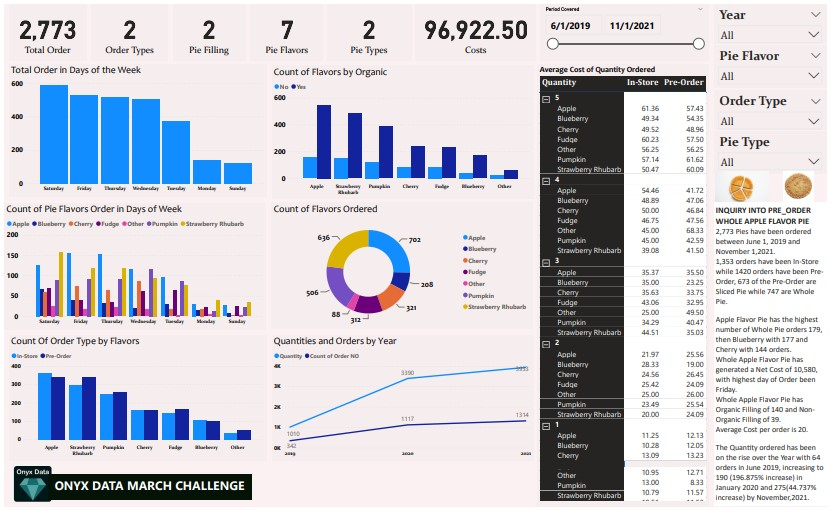

Layout of this report page (visuals, bound fields, positions):
{"tool":"powerbi","page":{"name":"Page 1","canvas":[1800,1100],"ordinal":0},"visuals":[{"type":"card","fields":{"Values":["Count(Data.Order NO)"]},"box":[10.8,0,170.4,122.9],"z":0},{"type":"card","fields":{"Values":["Count(Data.Pre-Order/In-Store Purchase)"]},"box":[191.1,0,167.2,122.8],"z":1000},{"type":"card","fields":{"Values":["Count(Data.Organic?)"]},"box":[368.5,0,158.7,122.8],"z":2000},{"type":"card","fields":{"Values":["Count(Data.Pie Flavor)"]},"box":[539.1,0,158.7,122.8],"z":3000},{"type":"card","fields":{"Values":["Count(Data.Slice Or Whole Pie)"]},"box":[706.4,0,184.3,122.8],"z":4000},{"type":"clusteredColumnChart","title":"Total Order in Days of the Week","fields":{"Category":["Data.Day of Week"],"Y":["Count(Data.Order NO)"]},"box":[10.8,131.5,562.8,291.1],"z":5000},{"type":"clusteredColumnChart","title":"Count of Pie Flavors Order in Days of Week","fields":{"Category":["Data.Day of Week"],"Series":["Data.Pie Flavor"],"Y":["Count(Data.Order NO)"]},"box":[0,434.3,573.2,277.8],"z":6000},{"type":"clusteredColumnChart","title":"Count of Flavors by Organic","fields":{"Category":["Data.Pie Flavor"],"Y":["Count(Data.Order NO)"],"Series":["Data.Organic?"]},"box":[585.2,134.8,573.3,291.8],"z":7000},{"type":"clusteredColumnChart","title":"Count Of Order Type by Flavors","fields":{"Category":["Data.Pie Flavor"],"Series":["Data.Pre-Order/In-Store Purchase"],"Y":["Count(Data.Order NO)"]},"box":[10.5,725.7,562.6,274.3],"z":8000},{"type":"donutChart","title":"Count of Flavors Ordered","fields":{"Category":["Data.Pie Flavor"],"Y":["Count(Data.Order NO)"]},"box":[585.5,435.2,571.6,276.9],"z":9000},{"type":"pivotTable","title":"Average Cost of Quantity Ordered","fields":{"Rows":["Data.Quantity","Data.Pie Flavor"],"Values":["Avg(Data.Cost)"],"Columns":["Data.Pre-Order/In-Store Purchase"]},"box":[1167,130.5,375.8,969.2],"z":10000},{"type":"lineChart","title":"Quantities and Orders by Year","fields":{"Y":["Sum(Data.Quantity)","Count(Data.Order NO)"],"Category":["Data.Month/Yr.Variation.Date Hierarchy.Year","Data.Month/Yr.Variation.Date Hierarchy.Quarter","Data.Month/Yr.Variation.Date Hierarchy.Month","Data.Month/Yr.Variation.Date Hierarchy.Day"]},"box":[585,725.7,573.1,275.3],"z":11000},{"type":"card","fields":{"Values":["Sum(Data.Cost)"]},"box":[900.9,0,262.7,122.8],"z":12000},{"type":"slicer","title":"Period Covered","fields":{"Values":["Data.Month/Yr"]},"box":[1172.9,0,369.1,123],"z":13000},{"type":"slicer","fields":{"Values":["Data.Year"]},"box":[1552.6,0,247.4,87],"z":14000},{"type":"slicer","fields":{"Values":["Data.Pie Flavor"]},"box":[1552.7,91,247.3,93],"z":15000},{"type":"slicer","fields":{"Values":["Data.Pre-Order/In-Store Purchase"]},"box":[1552.7,189.9,247.3,87],"z":16000},{"type":"slicer","fields":{"Values":["Data.Slice Or Whole Pie"]},"box":[1552.7,278.9,247.3,93],"z":17000},{"type":"image","box":[1552.7,360,124.6,91],"z":18000},{"type":"image","box":[1675.4,362,124.6,77.1],"z":19000},{"type":"textbox","box":[1552.7,435.2,247.3,664.6],"z":20000},{"type":"image","box":[15.8,999.1,94.9,100.9],"z":21000},{"type":"textbox","box":[94.9,1030.5,445.1,55.4],"z":23000}]}

Visuals, with their boxes in screenshot pixels (x1, y1, x2, y2), scaled from the page's 1800x1100 canvas onto the 831x510 screenshot:
card - Count(Data.Order NO): x1=5, y1=0, x2=84, y2=57
card - Count(Data.Pre-Order/In-Store Purchase): x1=88, y1=0, x2=165, y2=57
card - Count(Data.Organic?): x1=170, y1=0, x2=243, y2=57
card - Count(Data.Pie Flavor): x1=249, y1=0, x2=322, y2=57
card - Count(Data.Slice Or Whole Pie): x1=326, y1=0, x2=411, y2=57
"Total Order in Days of the Week" clusteredColumnChart: x1=5, y1=61, x2=265, y2=196
"Count of Pie Flavors Order in Days of Week" clusteredColumnChart: x1=0, y1=201, x2=265, y2=330
"Count of Flavors by Organic" clusteredColumnChart: x1=270, y1=62, x2=535, y2=198
"Count Of Order Type by Flavors" clusteredColumnChart: x1=5, y1=336, x2=265, y2=464
"Count of Flavors Ordered" donutChart: x1=270, y1=202, x2=534, y2=330
"Average Cost of Quantity Ordered" pivotTable: x1=539, y1=61, x2=712, y2=509
"Quantities and Orders by Year" lineChart: x1=270, y1=336, x2=535, y2=464
card - Sum(Data.Cost): x1=416, y1=0, x2=537, y2=57
"Period Covered" slicer: x1=541, y1=0, x2=712, y2=57
slicer - Data.Year: x1=717, y1=0, x2=830, y2=40
slicer - Data.Pie Flavor: x1=717, y1=42, x2=830, y2=85
slicer - Data.Pre-Order/In-Store Purchase: x1=717, y1=88, x2=830, y2=128
slicer - Data.Slice Or Whole Pie: x1=717, y1=129, x2=830, y2=172
image: x1=717, y1=167, x2=774, y2=209
image: x1=773, y1=168, x2=830, y2=204
textbox: x1=717, y1=202, x2=830, y2=509
image: x1=7, y1=463, x2=51, y2=509
textbox: x1=44, y1=478, x2=249, y2=503
